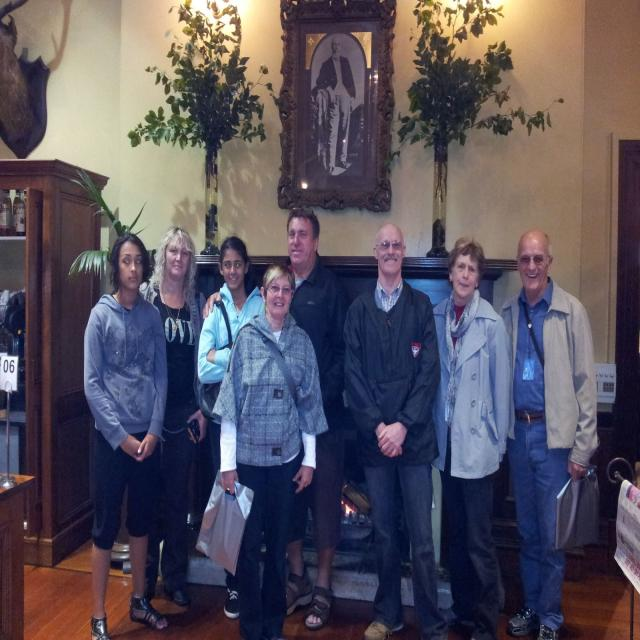body: (200, 207, 352, 632), (340, 220, 451, 640), (209, 260, 331, 640), (496, 228, 602, 639), (82, 230, 170, 640), (427, 233, 514, 640), (128, 226, 208, 608), (195, 235, 268, 622), (316, 34, 357, 179)
